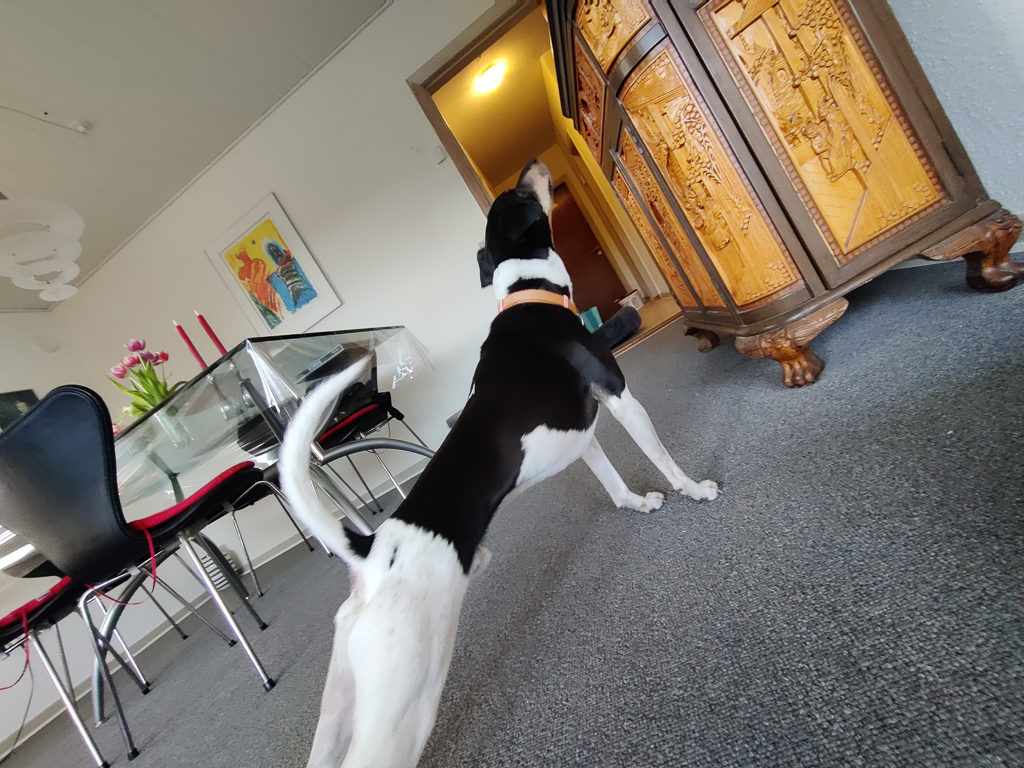Dog: (271, 153, 731, 768)
